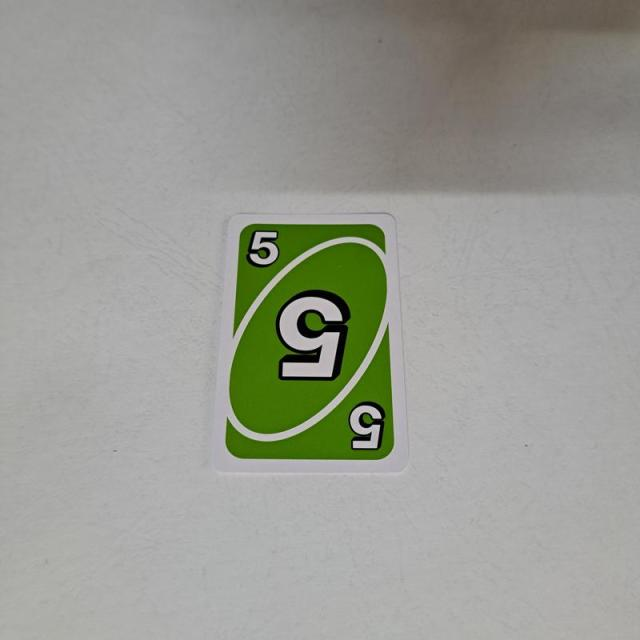Green_Card: (220, 218, 398, 464)
Number_5: (247, 223, 282, 272)
